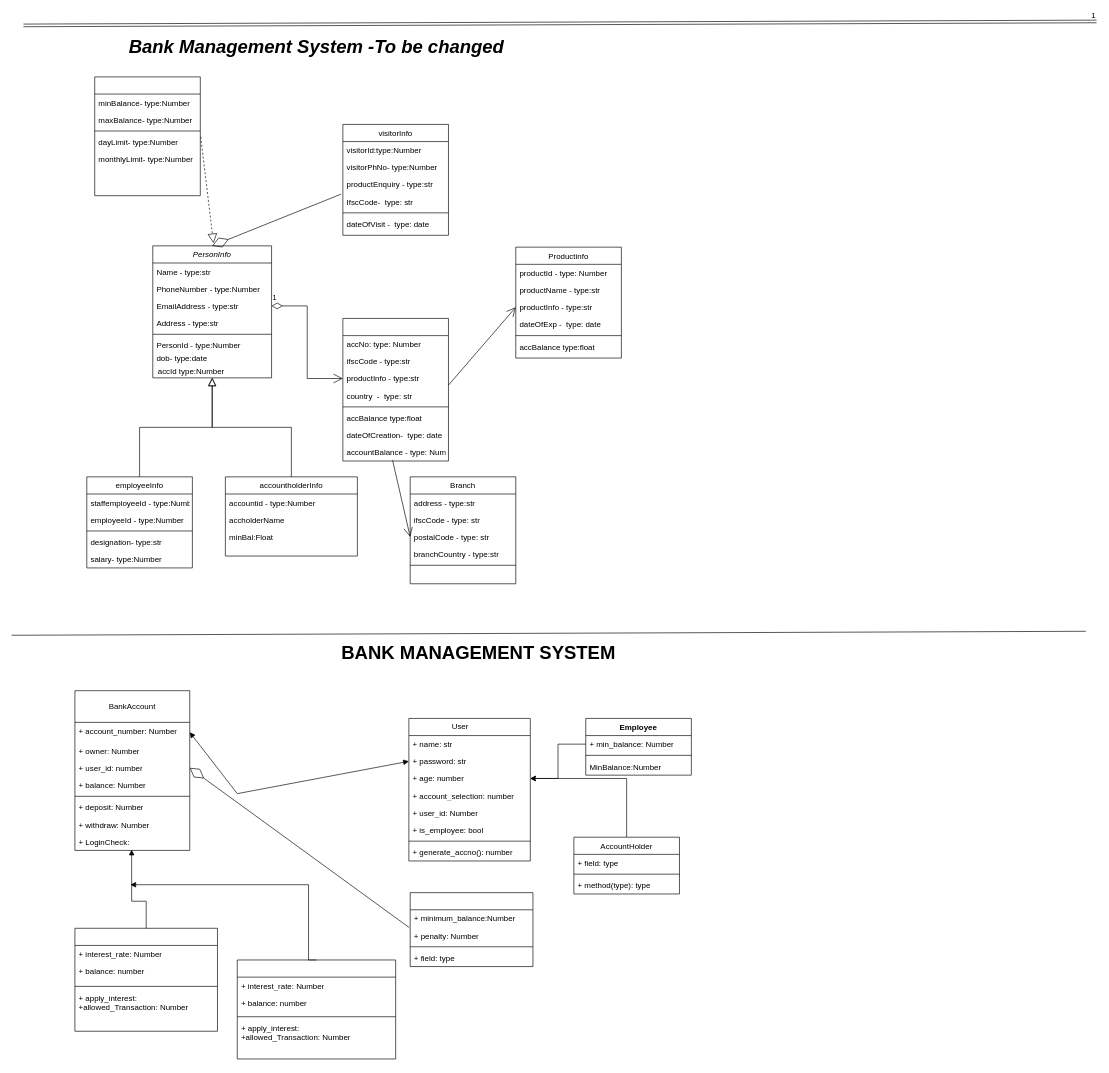
The diagram is 1109 pixels wide and 1073 high, and some of its shapes have lost their labels. The shapes that lost their labels are listed below. From the top down, each one's box as (x1, y1, x2, y2) in pixels, then its label:
(94, 76, 200, 196): LimitInfo
(342, 318, 448, 461): AccountInfo
(410, 892, 533, 967): CheckingAccount
(74, 928, 217, 1031): SavingsAccount
(237, 959, 396, 1059): CurrentAccount
